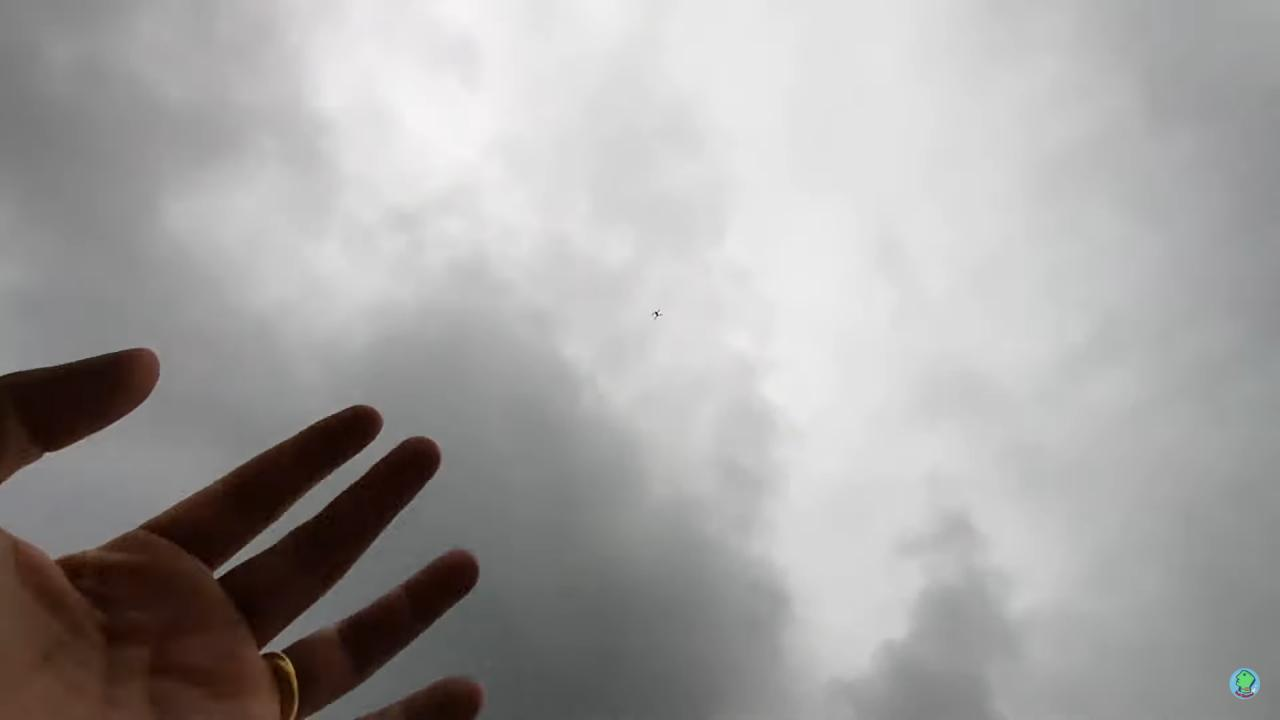Drone: (644, 303, 670, 326)
